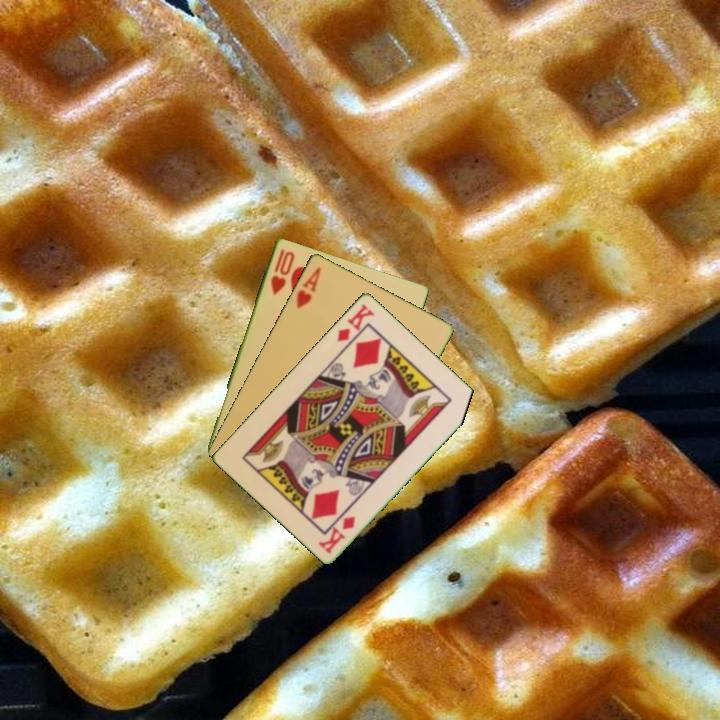10h: (267, 245, 297, 297)
Ah: (293, 263, 324, 311)
Kd: (333, 300, 378, 344), (315, 512, 358, 556)
